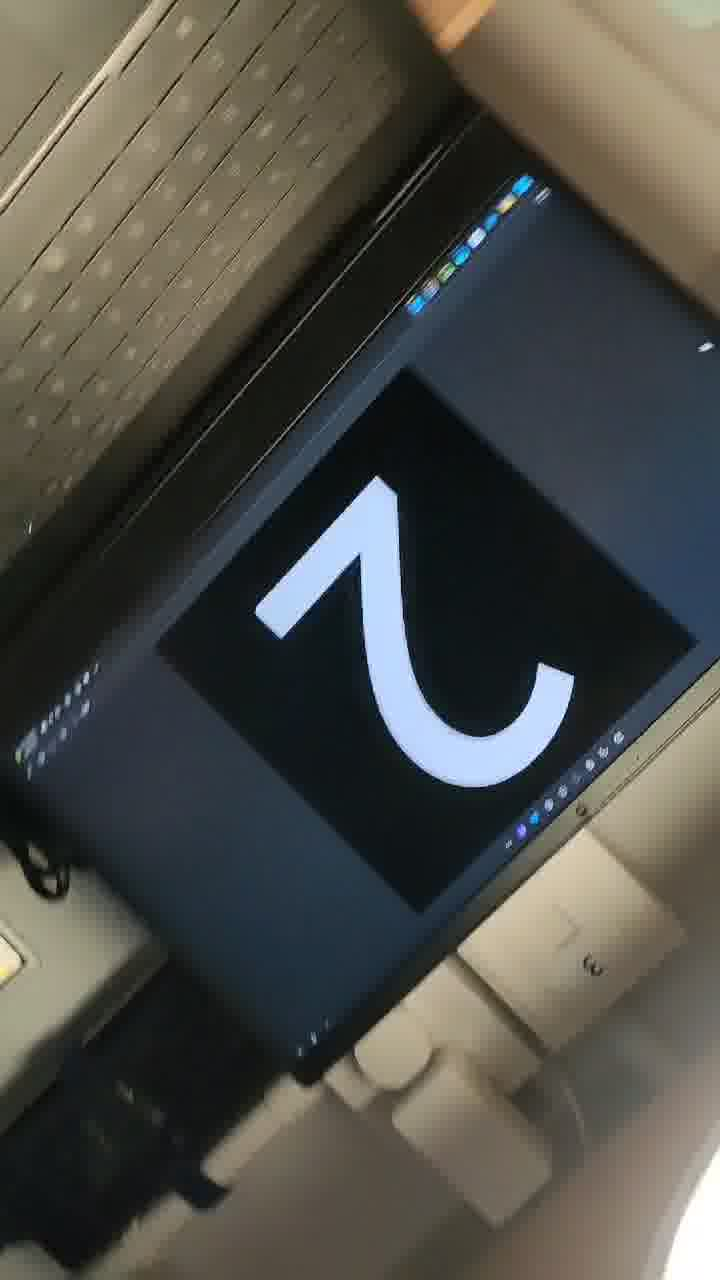two: (233, 429, 610, 871)
